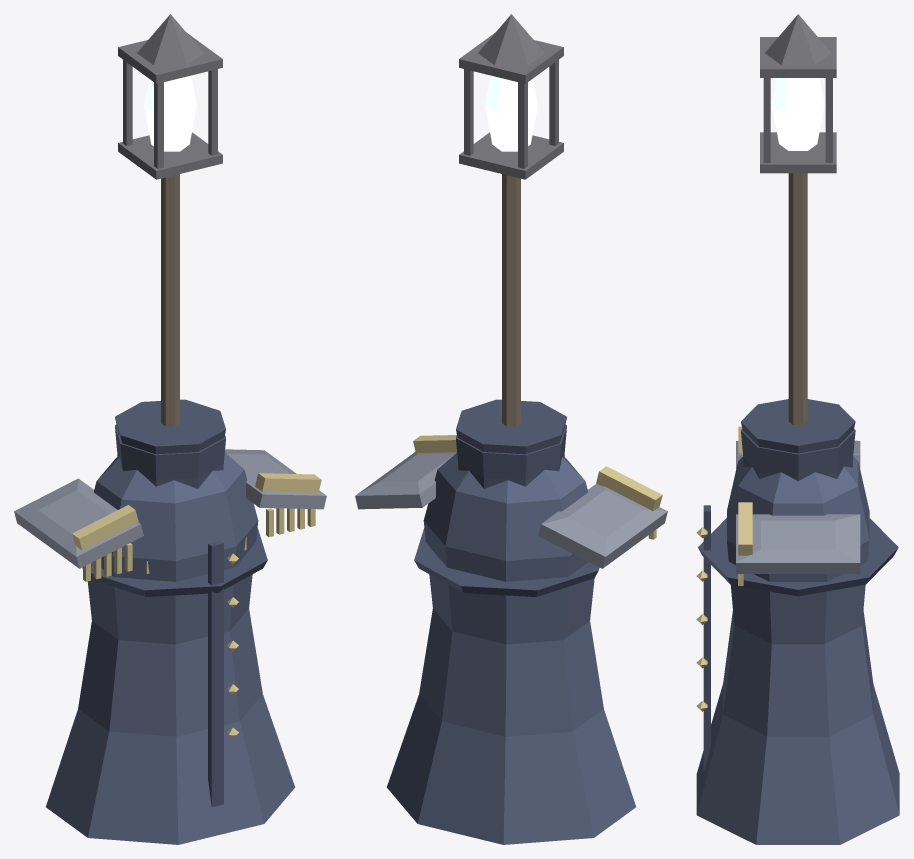
Rendered from lamplighter.glb.
3 renders of one model, left to right at view 1: azimuth 30°, elevation 25°; view 2: azimuth 150°, elevation 25°; view 3: azimuth 270°, elevation 25°, orthographic.
Visible parts, largest first — view 1: Torso, Weapon, PauldronL, Head, PauldronR; view 2: Torso, Weapon, PauldronL, Head, PauldronR; view 3: Torso, Weapon, PauldronR, Head.
Boxes of the visible parts, bbox=[...] form: Torso: bbox=[46, 399, 295, 844]; Weapon: bbox=[118, 14, 222, 426]; PauldronL: bbox=[14, 478, 143, 581]; Head: bbox=[82, 424, 267, 596]; PauldronR: bbox=[225, 449, 326, 537]; Torso: bbox=[386, 399, 635, 844]; Weapon: bbox=[459, 14, 563, 426]; PauldronL: bbox=[538, 466, 667, 568]; Head: bbox=[414, 424, 599, 596]; PauldronR: bbox=[355, 435, 456, 509]; Torso: bbox=[696, 399, 899, 844]; Weapon: bbox=[760, 14, 836, 424]; PauldronR: bbox=[736, 502, 860, 585]; Head: bbox=[698, 429, 898, 596].
Bounding box in the file's own units: 0.6024 × 1.8 × 0.425.
